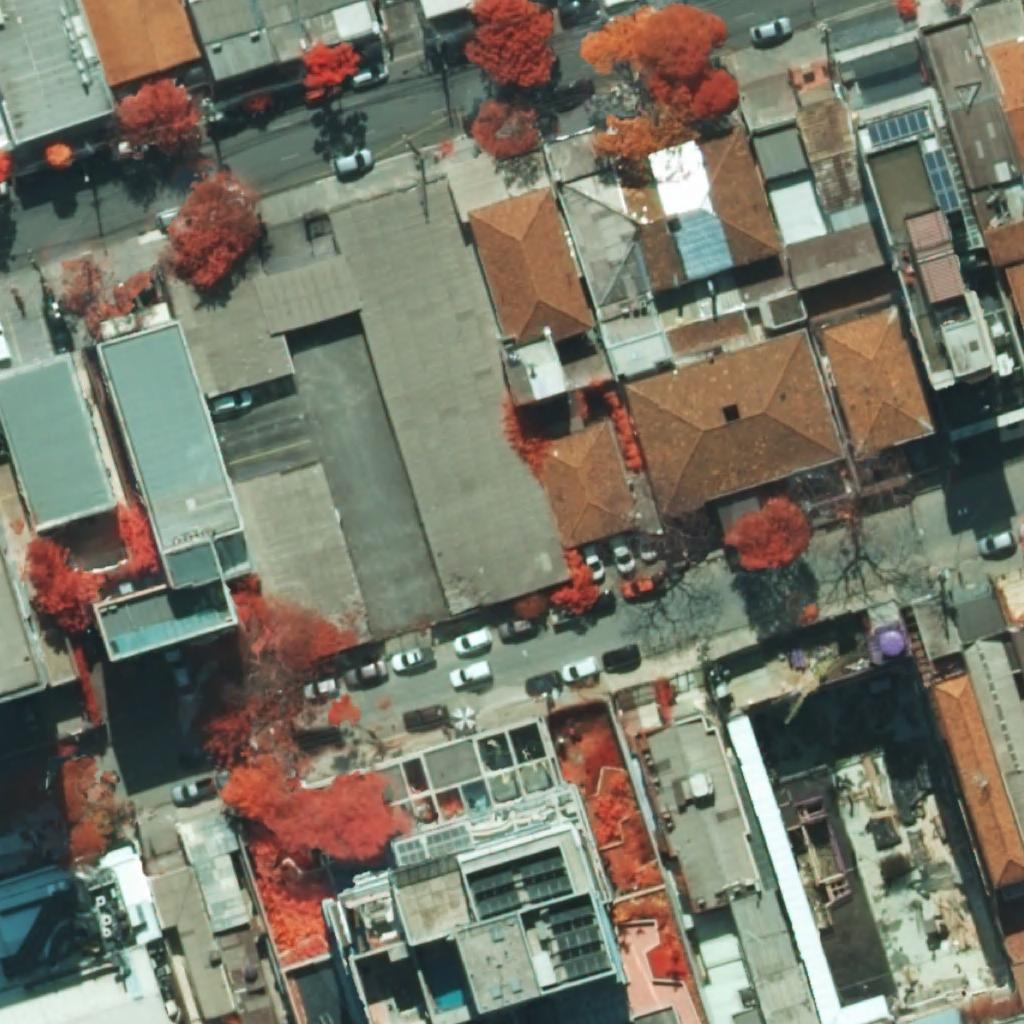pool: (416, 937, 475, 1013)
